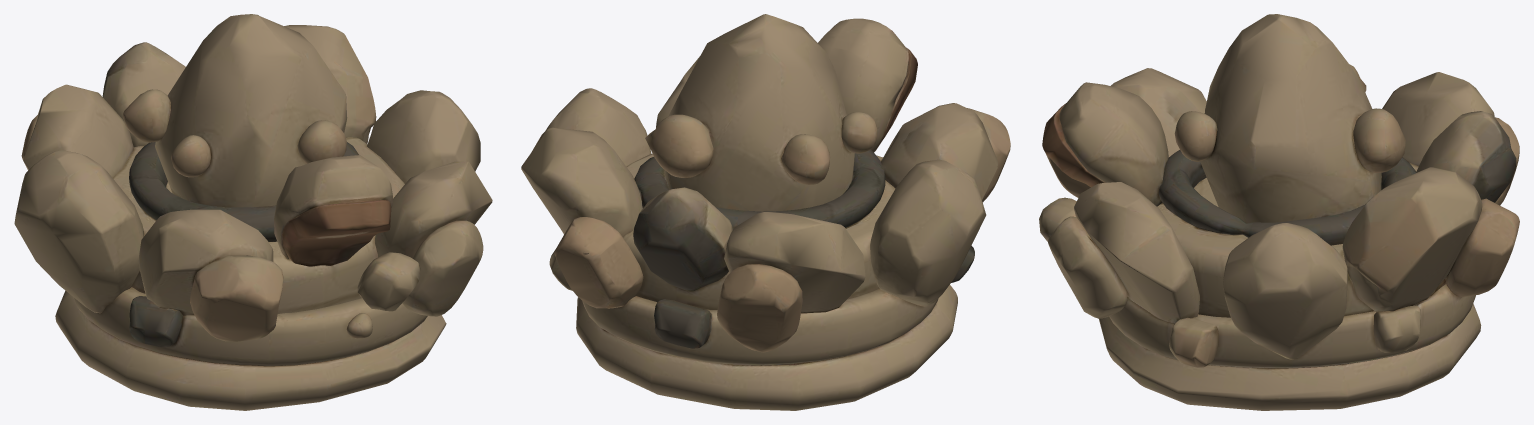
Rendered from acc_hat_lava_ember_01.glb.
3 views of the same model, side by side, from view 1: azimuth 30°, elevation 25°; view 2: azimuth 150°, elevation 25°; view 3: azimuth 270°, elevation 25° (orthographic).
Parts seen in each view (by area): view 1: acc_hat_lava_ember_01; view 2: acc_hat_lava_ember_01; view 3: acc_hat_lava_ember_01.
Boxes of the visible parts, box(x1,y1,x2,y2) form: acc_hat_lava_ember_01: box(14, 14, 492, 410); acc_hat_lava_ember_01: box(521, 14, 1010, 410); acc_hat_lava_ember_01: box(1039, 14, 1519, 410).
Size of the model in its own units: 0.3445 by 0.26 by 0.328.
Materials: 1 (1 with a texture image).
